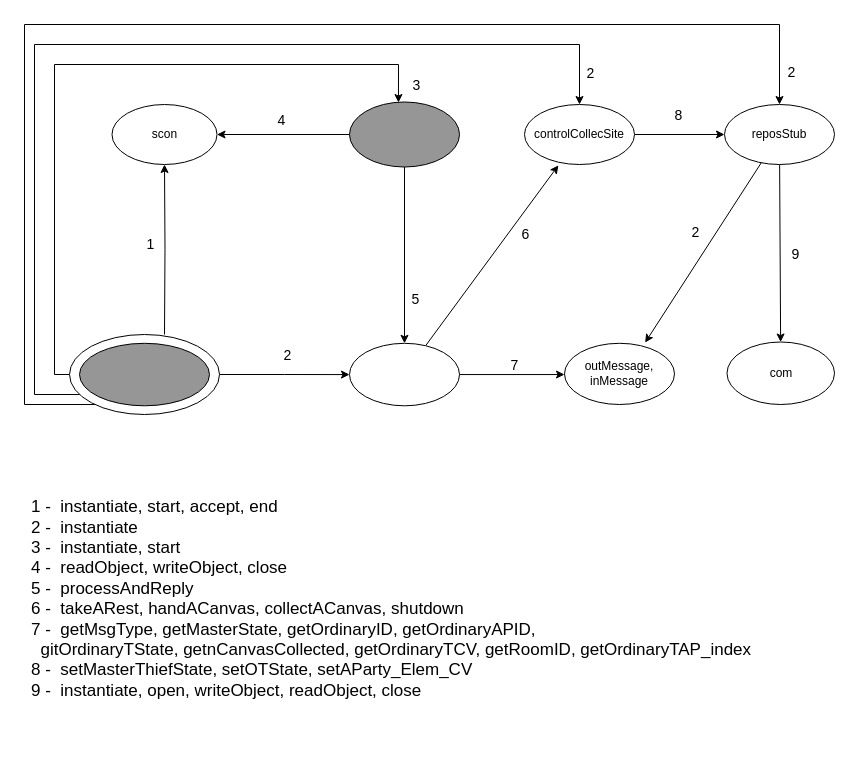
This 867x772 diagram has some shape labels left out. Each missing label, with the centre of its shape:
cliProxy: point (404, 134)
controlSiteInter: point (404, 374)
ServerHeistMuseum ControlSite: point (144, 374)
